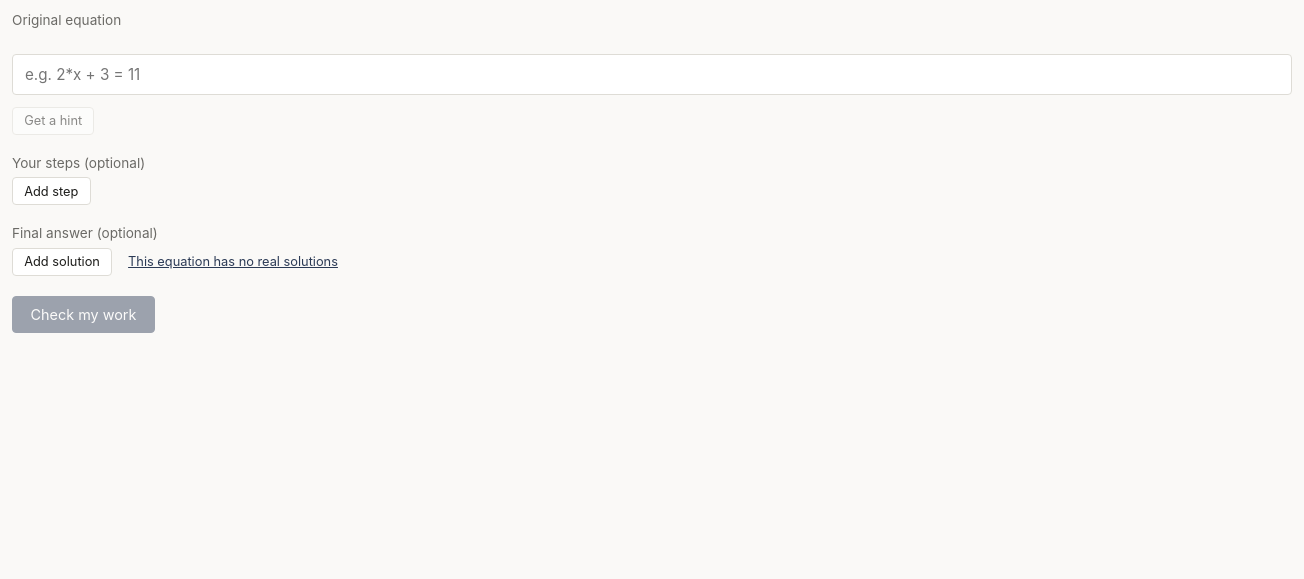
CheckWorkForm › flags a partial-overlap step as the first error, not as a mere warning
Type "(x-1)*(x-2) = 0" into the field labelled "Original equation" at coordinates (652, 74), box 12,54 -> 1292,95
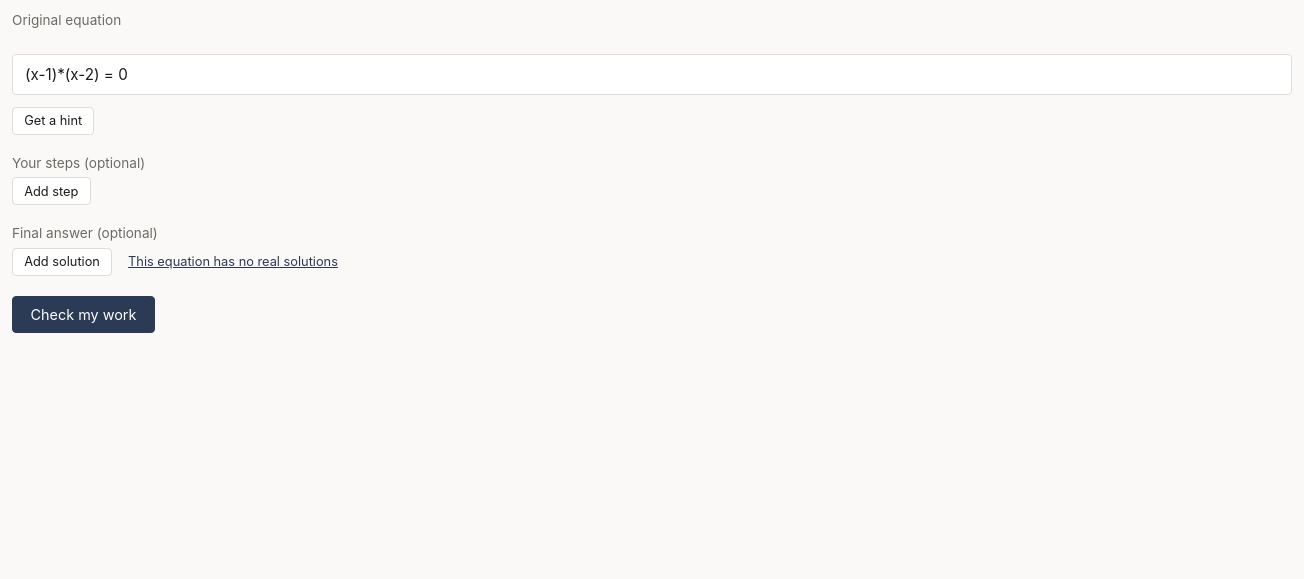
Click the button "Check my work" at coordinates (84, 314), box 12,296 -> 155,332
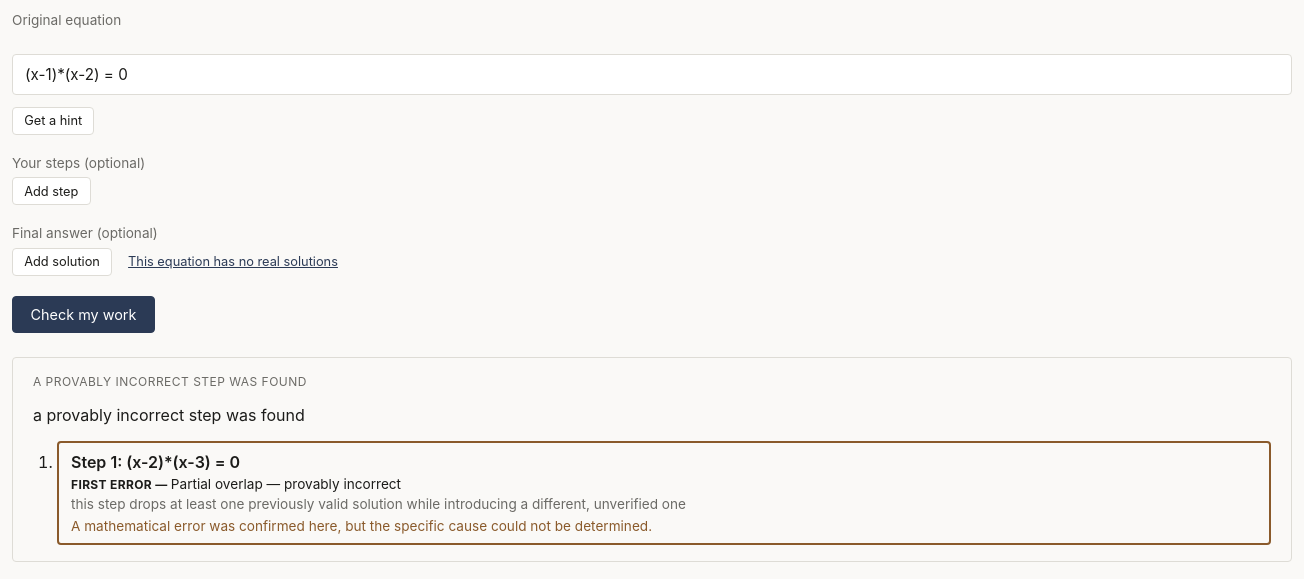
Result: the text "First error —" is shown at 71,477 -> 171,492
Result: the text "Partial overlap — provably incorrect" is shown at 171,476 -> 401,492
